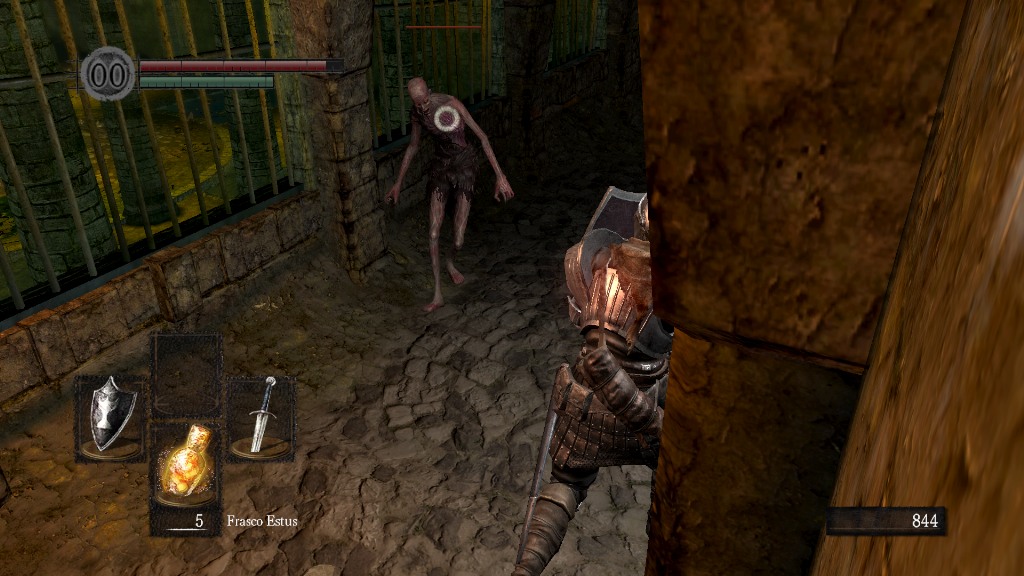health: (138, 58, 343, 71)
hollow: (386, 77, 514, 311)
humanity: (80, 45, 136, 102)
player: (508, 185, 676, 576)
souls: (825, 506, 945, 536)
stamina: (138, 74, 274, 88)
